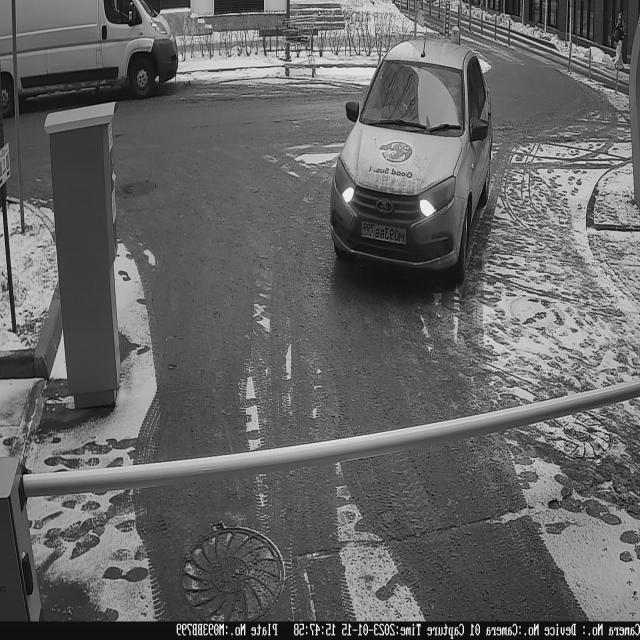car-plate-numbers: (358, 220, 413, 254)
